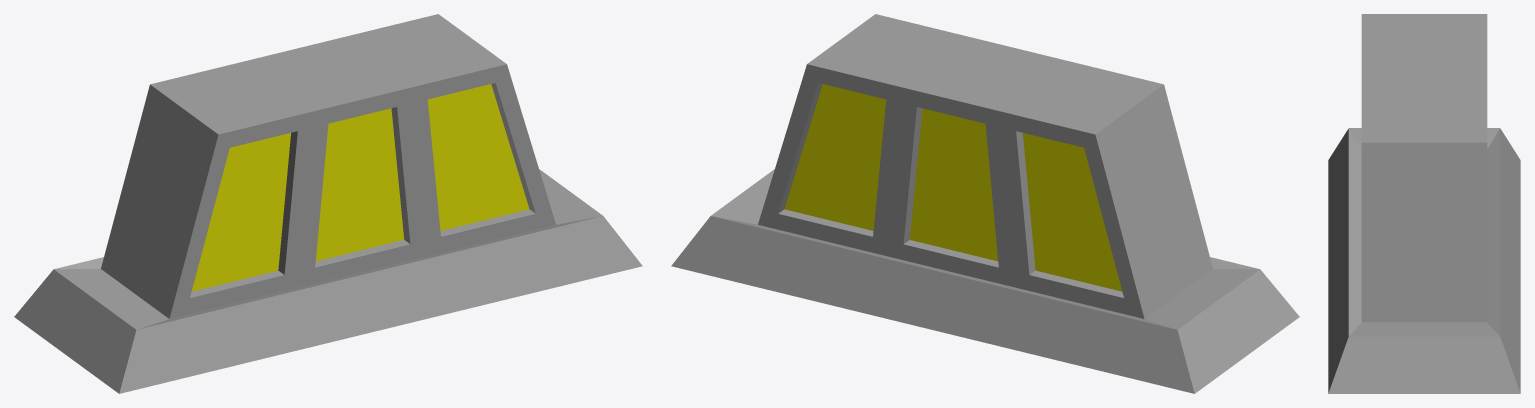
File: trafficblock.fbx
The picture shows the model from 3 angles, left to right: view 1: azimuth 30°, elevation 25°; view 2: azimuth 150°, elevation 25°; view 3: azimuth 270°, elevation 25°; orthographic projection. The views are drawn at different scales.
Parts seen in each view (by area): view 1: trafficblock; view 2: trafficblock; view 3: trafficblock.
Part boxes in pixels (box(x1,y1,x2,y2)): trafficblock: box(14, 14, 642, 393); trafficblock: box(671, 14, 1299, 393); trafficblock: box(1328, 14, 1520, 393).
Size of the model in its own units: 3.44 by 1.36 by 1.2.
